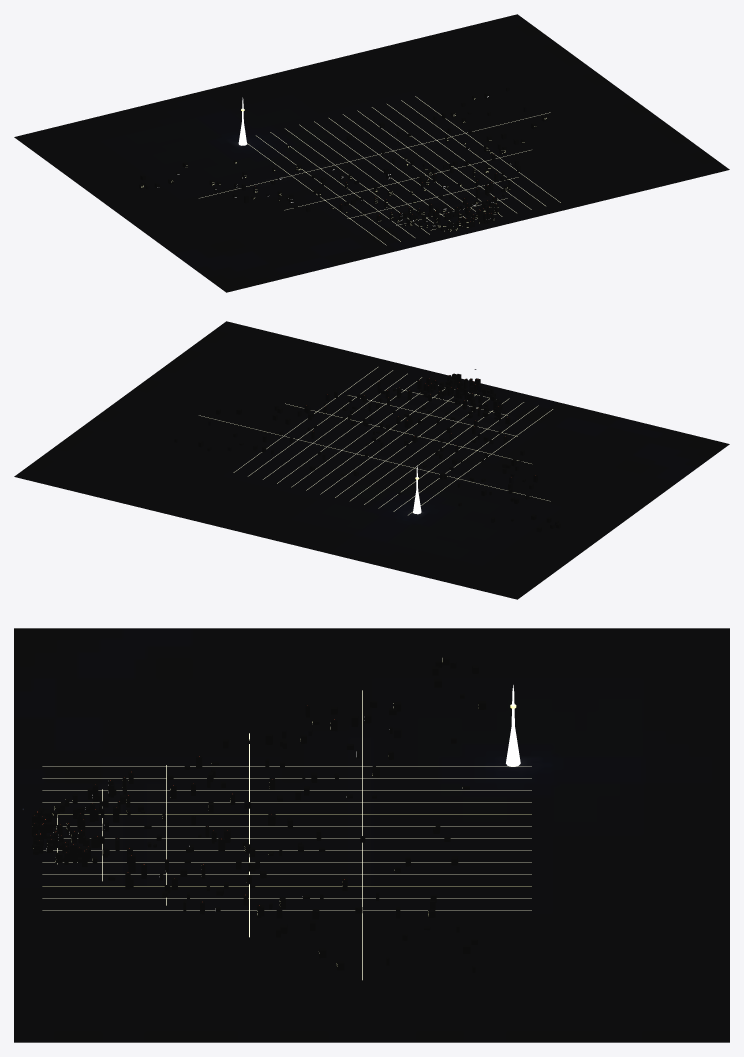
File: deck.glb
3 renders of one model, top to bottom at view 1: azimuth 30°, elevation 25°; view 2: azimuth 150°, elevation 25°; view 3: azimuth 270°, elevation 25°, orthographic. The views are drawn at different scales.
Parts seen in each view (by area): view 1: static_deck_city, deck_city_EMIT_street_glow; view 2: static_deck_city, deck_city_EMIT_street_glow; view 3: static_deck_city, deck_city_EMIT_street_glow.
Part boxes in pixels (x1,y1,x2,y2): static_deck_city: [14, 14, 729, 292]; deck_city_EMIT_street_glow: [199, 96, 560, 245]; static_deck_city: [14, 321, 729, 599]; deck_city_EMIT_street_glow: [199, 367, 552, 515]; static_deck_city: [14, 628, 729, 1042]; deck_city_EMIT_street_glow: [42, 690, 531, 980].
Size of the model in its own units: 5200 by 471 by 3800.
Materials: 9 (2 with a texture image).
